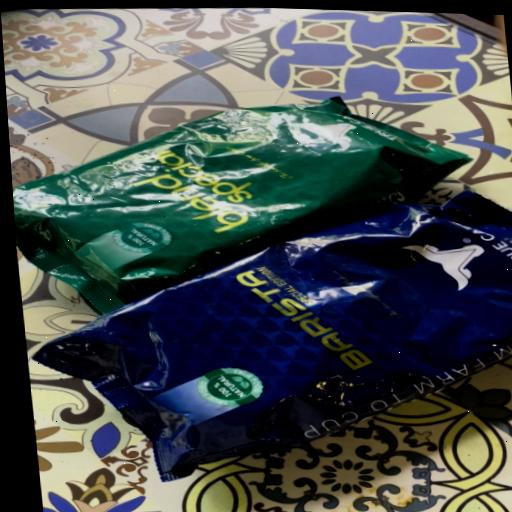cafe_hat: (33, 191, 512, 481)
cafe_xay: (13, 96, 464, 314)
